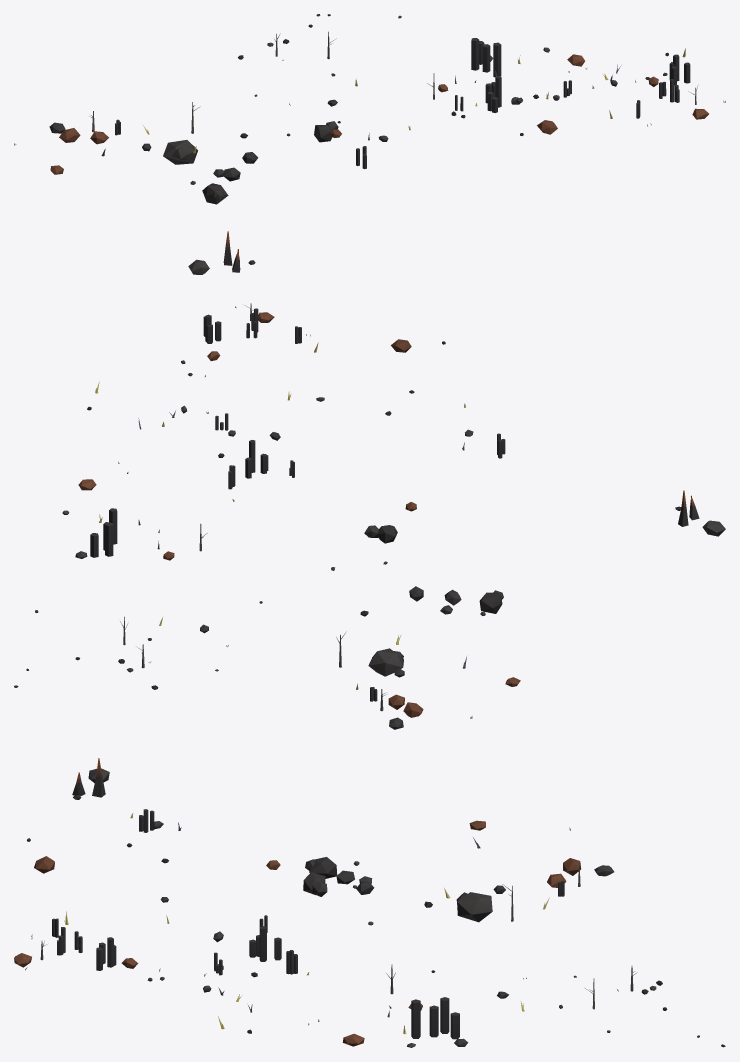
The model's file is ash_land_scatter_c17_27_lod1.glb.
The picture shows the model from 3 angles, top to bottom: view 1: azimuth 30°, elevation 25°; view 2: azimuth 150°, elevation 25°; view 3: azimuth 270°, elevation 25°; orthographic projection. The views are drawn at different scales.
Visible parts, largest first — view 1: ash_land_scatter_c17_27_lod1; view 2: ash_land_scatter_c17_27_lod1; view 3: ash_land_scatter_c17_27_lod1.
Part boxes in pixels (left/top/right/bottom): ash_land_scatter_c17_27_lod1: left=14, top=14, right=725, bottom=274; ash_land_scatter_c17_27_lod1: left=14, top=303, right=725, bottom=729; ash_land_scatter_c17_27_lod1: left=14, top=758, right=725, bottom=1047.
Bounding box in the file's own units: 150 × 37.5 × 148.
